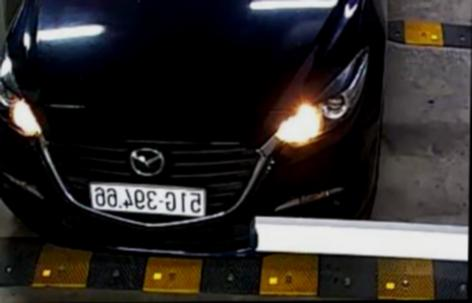License_Plate: (90, 180, 208, 217)
